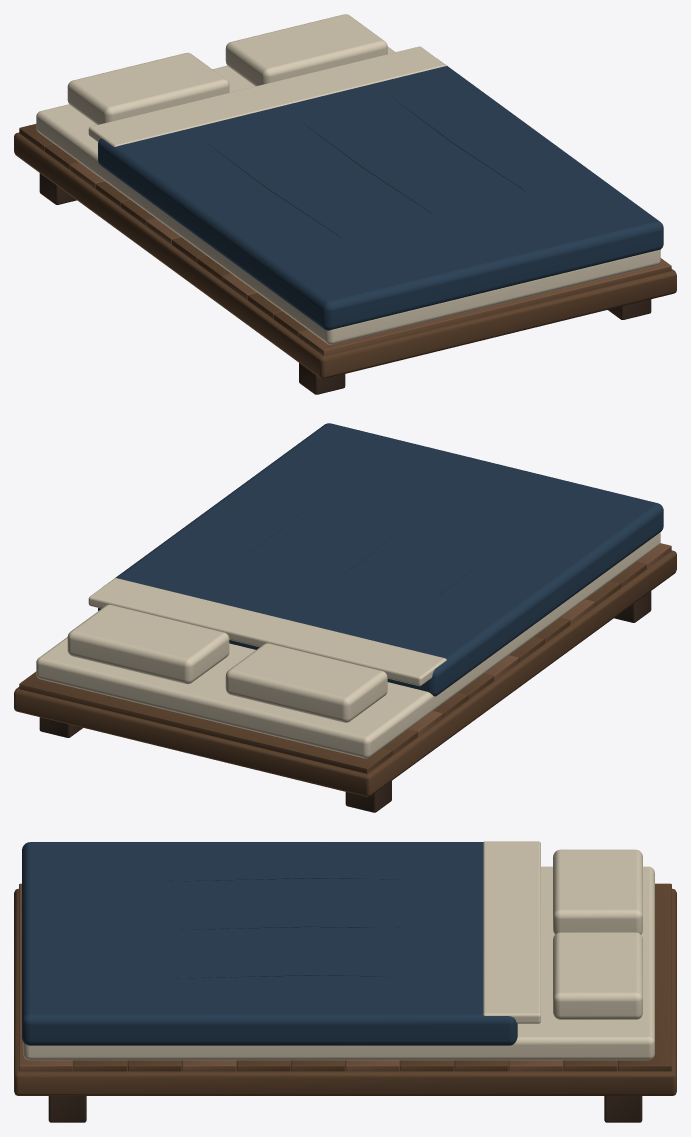
File: kominka-bed-1400-01.glb
The picture shows the model from 3 angles, top to bottom: view 1: azimuth 30°, elevation 25°; view 2: azimuth 150°, elevation 25°; view 3: azimuth 270°, elevation 25°; orthographic projection. The views are drawn at different scales.
Visible parts, largest first — view 1: kominka-bed-1400-01; view 2: kominka-bed-1400-01; view 3: kominka-bed-1400-01.
Part boxes in pixels (left/top/right/bottom): kominka-bed-1400-01: left=14, top=14, right=676, bottom=394; kominka-bed-1400-01: left=14, top=423, right=676, bottom=812; kominka-bed-1400-01: left=14, top=841, right=676, bottom=1122.
Bounding box in the file's own units: 1.4 × 0.4 × 2.1.
